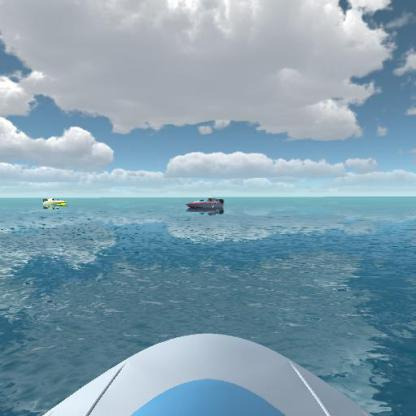usv2: (41, 195, 68, 211)
usv3: (184, 195, 226, 218)
